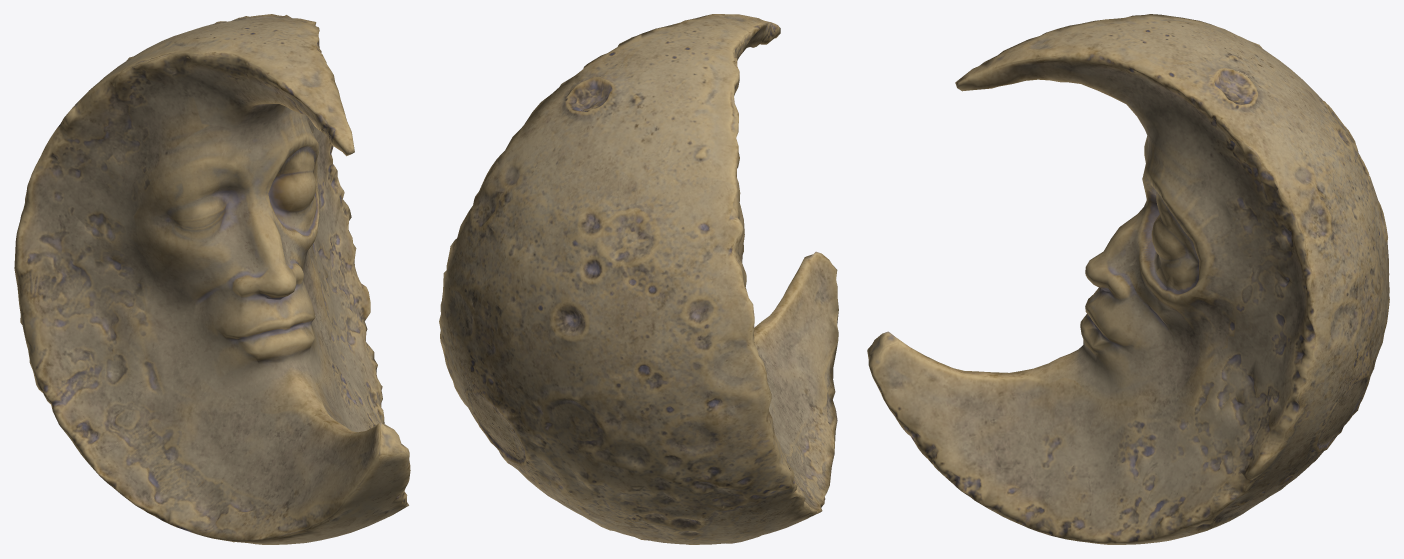
File: lunalow1.glb
3 renders of one model, left to right at view 1: azimuth 30°, elevation 25°; view 2: azimuth 150°, elevation 25°; view 3: azimuth 270°, elevation 25°, orthographic.
Parts seen in each view (by area): view 1: Object_2; view 2: Object_2; view 3: Object_2.
Boxes of the visible parts, left/top/right/bottom form: Object_2: left=14, top=14, right=410, bottom=544; Object_2: left=439, top=14, right=838, bottom=544; Object_2: left=867, top=14, right=1389, bottom=544.
Bounding box in the file's own units: 1.44 × 1.98 × 1.92.
1 material, 1 textured.
